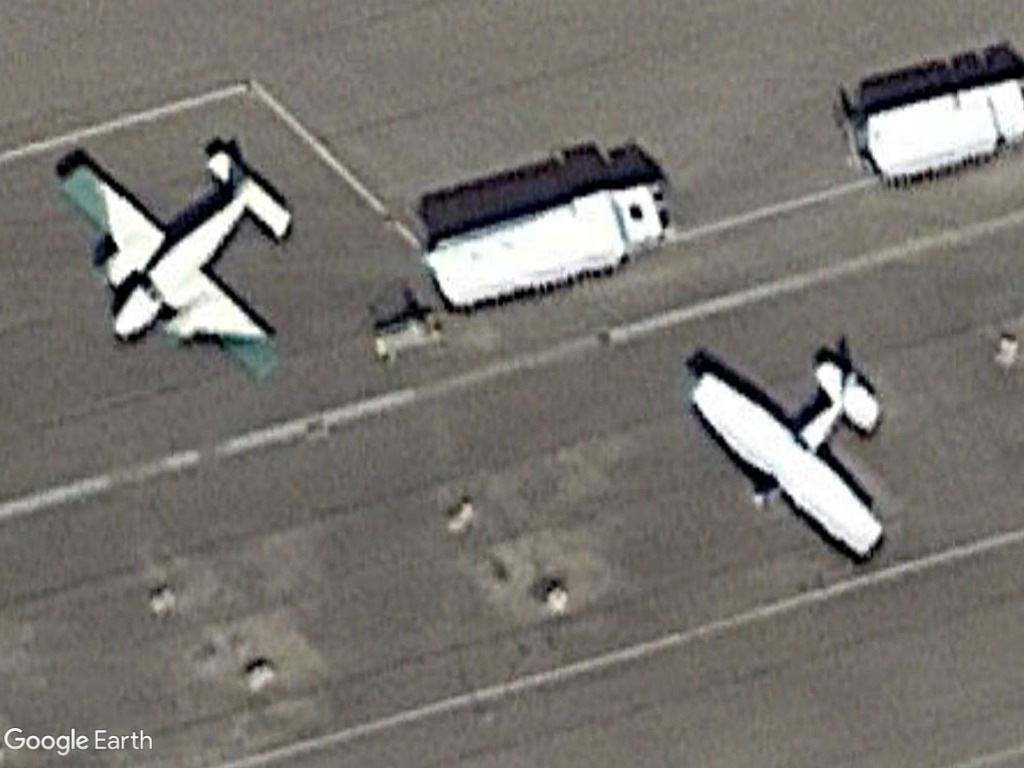propeller: (60, 147, 300, 387)
trainer: (686, 350, 892, 566)
truck: (426, 180, 678, 312)
